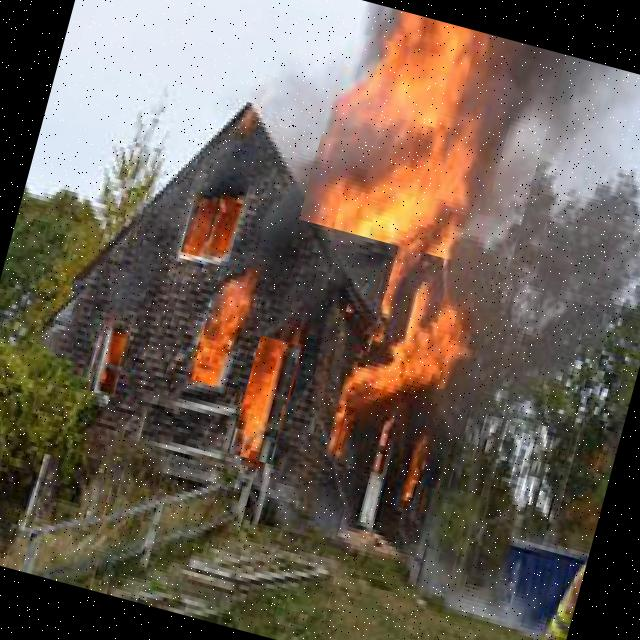fire: (298, 0, 566, 275), (307, 284, 484, 490), (228, 335, 300, 464), (190, 269, 250, 386), (174, 180, 240, 266), (89, 326, 130, 397), (256, 288, 263, 298)
